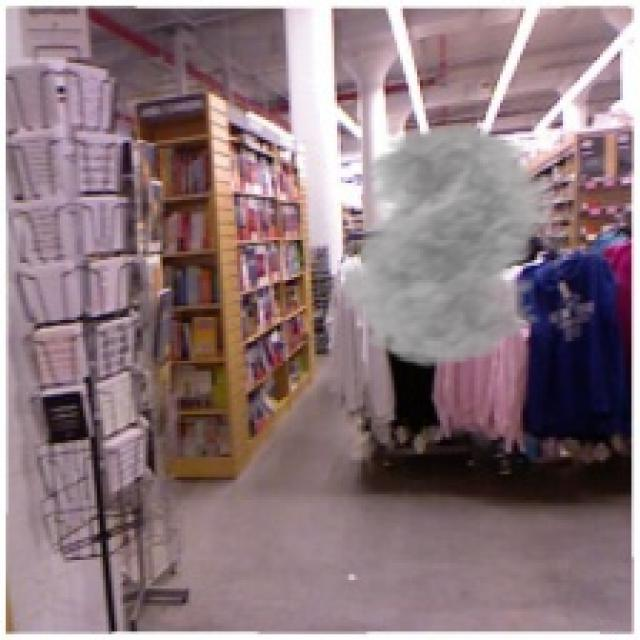smoke: (317, 123, 583, 368)
